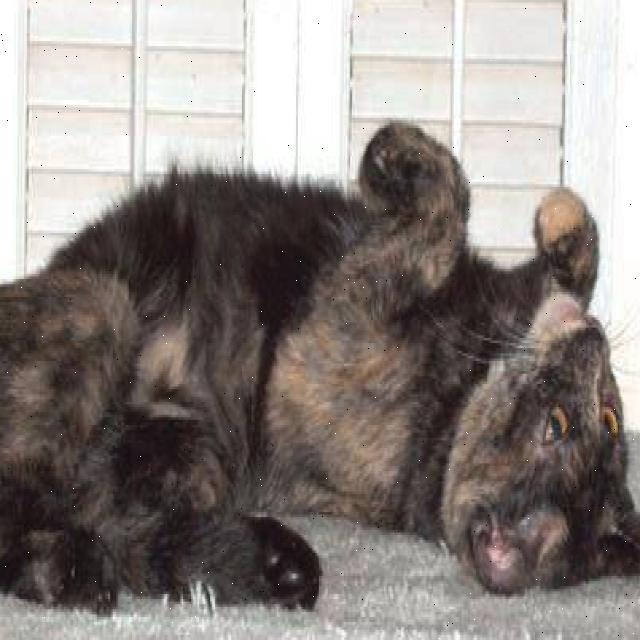Cat: (433, 276, 640, 602)
